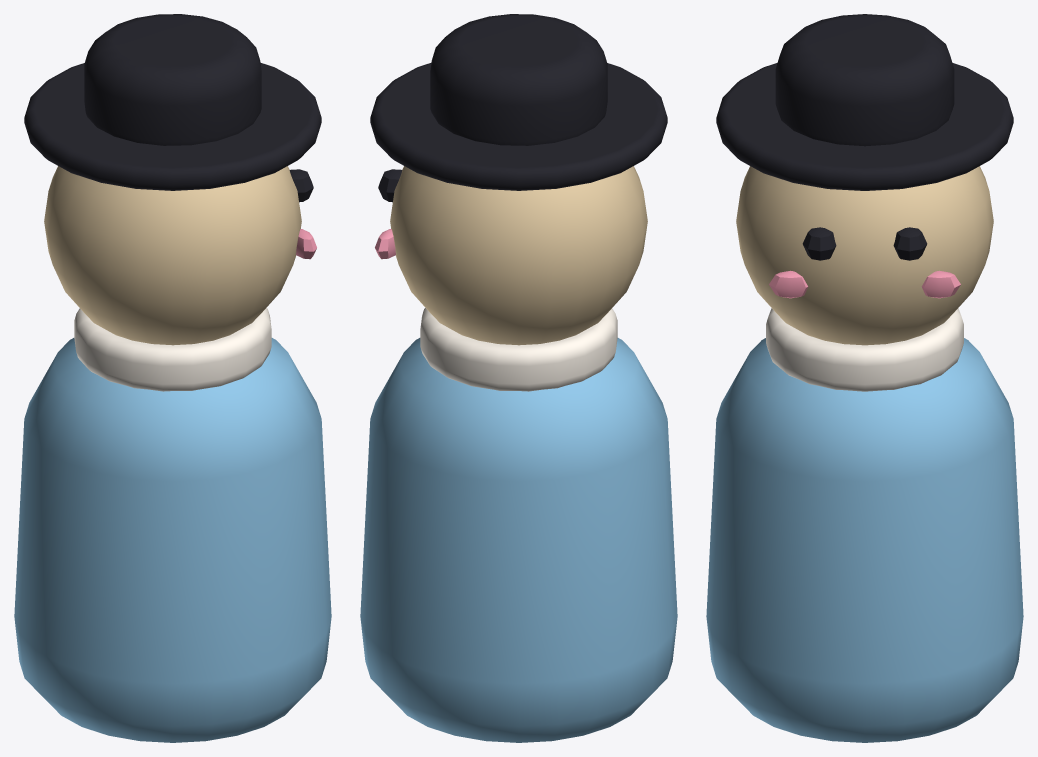
File: peg_c.glb
3 views of the same model, side by side, from view 1: azimuth 30°, elevation 25°; view 2: azimuth 150°, elevation 25°; view 3: azimuth 270°, elevation 25° (orthographic).
Parts seen in each view (by area): view 1: peg_c; view 2: peg_c; view 3: peg_c.
Part boxes in pixels (bbox=[...]): peg_c: bbox=[14, 14, 331, 742]; peg_c: bbox=[360, 14, 677, 742]; peg_c: bbox=[706, 14, 1023, 742].
Bounding box in the file's own units: 0.32 × 0.72 × 0.32.
Materials: 1 (1 with a texture image).
